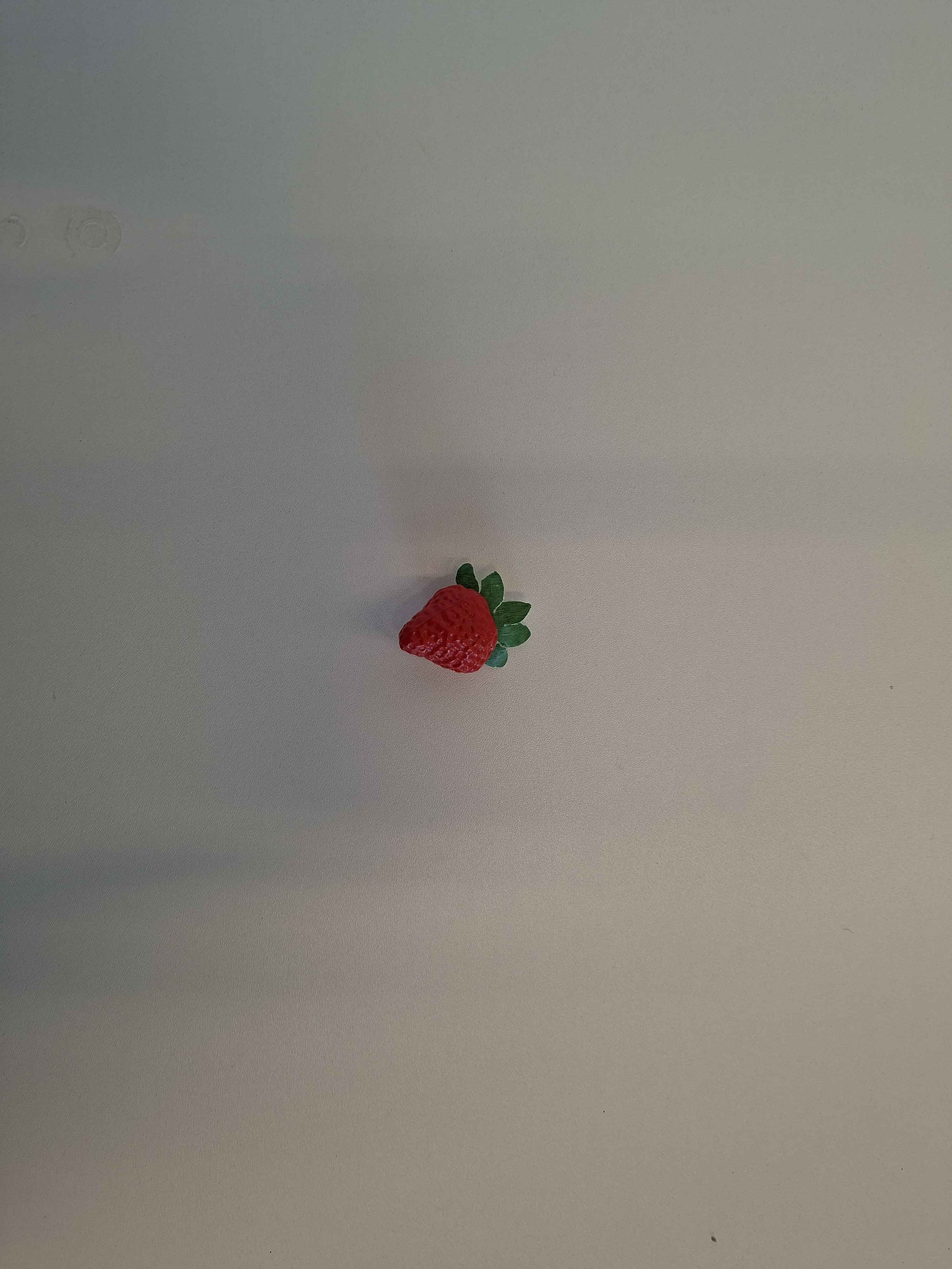Strawberry: (393, 574, 506, 675)
